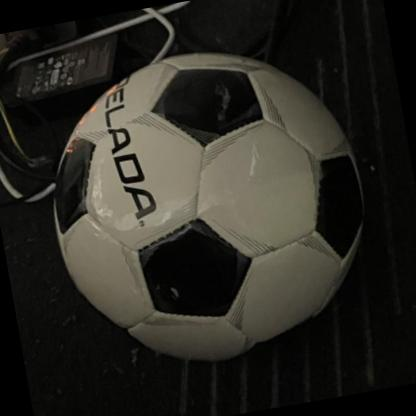ball: (26, 26, 390, 386)
